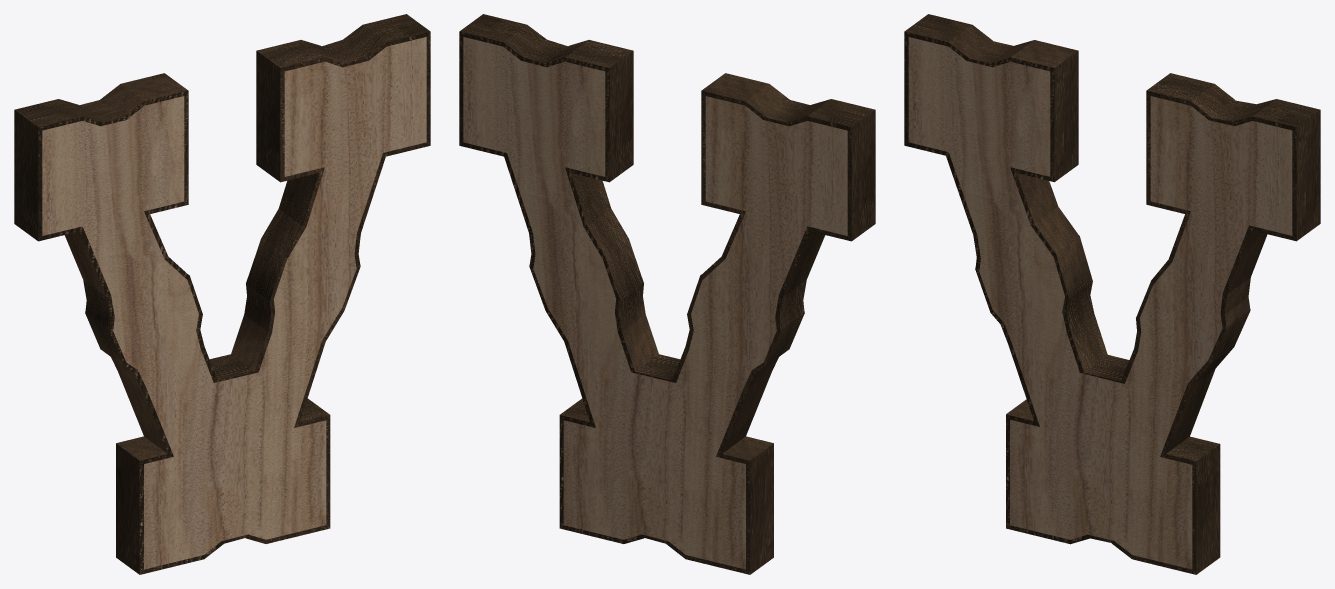
The picture shows the model from 3 angles, left to right: view 1: azimuth 30°, elevation 25°; view 2: azimuth 150°, elevation 25°; view 3: azimuth 330°, elevation 25°; orthographic projection.
Visible parts, largest first — view 1: V, V_outline; view 2: V, V_outline; view 3: V, V_outline.
Boxes of the visible parts, x1,y1,x2,y2 form: V: (42, 37, 426, 569); V_outline: (14, 14, 430, 574); V: (463, 37, 847, 569); V_outline: (459, 14, 875, 574); V: (908, 37, 1292, 569); V_outline: (904, 14, 1320, 574).
Size of the model in its own units: 94.55 by 109 by 10.
2 materials, 2 textured.
